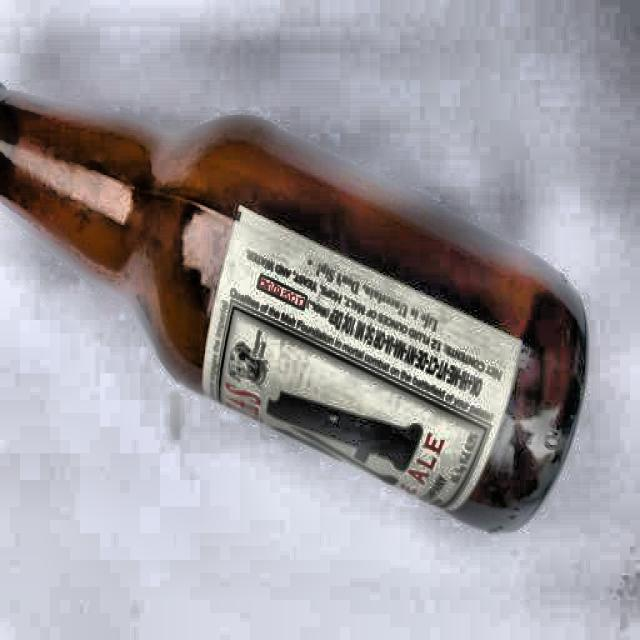glass: (0, 81, 594, 540)
